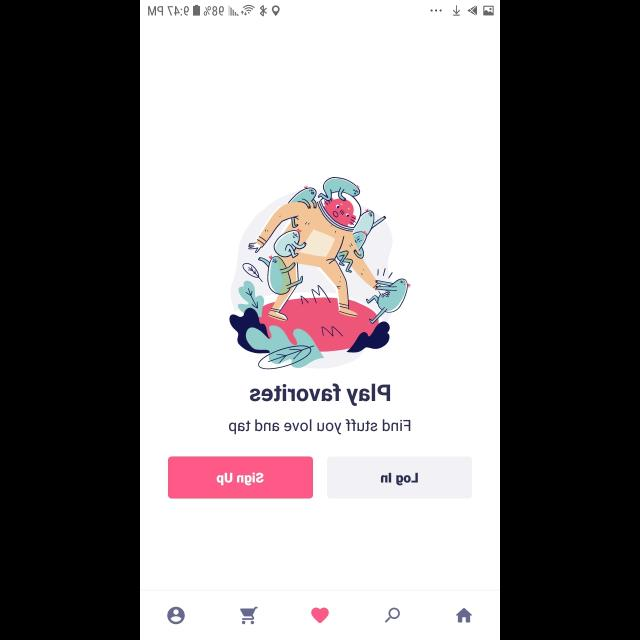icon: (167, 607, 185, 625), (239, 606, 257, 624), (311, 607, 329, 623), (384, 607, 400, 623), (456, 608, 472, 622)
image: (229, 177, 411, 371)
text: (250, 384, 390, 406), (229, 419, 411, 435)
textbutton: (326, 457, 472, 499), (168, 457, 312, 499)
uppertaskbar: (140, 1, 500, 18)
